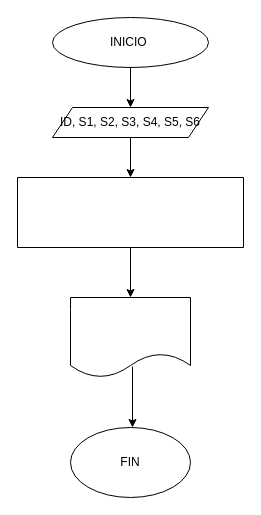
Image size: 261x515. Some labels were removed from this diagram. The box of each missing label's shape, as (x1, y1, x2, y2) in pixels:
ID, IT, PM: (70, 296, 190, 378)
IT= s1 + s2 + s3 + s4 + s5 +s6 PM=IT/6: (16, 176, 244, 248)
